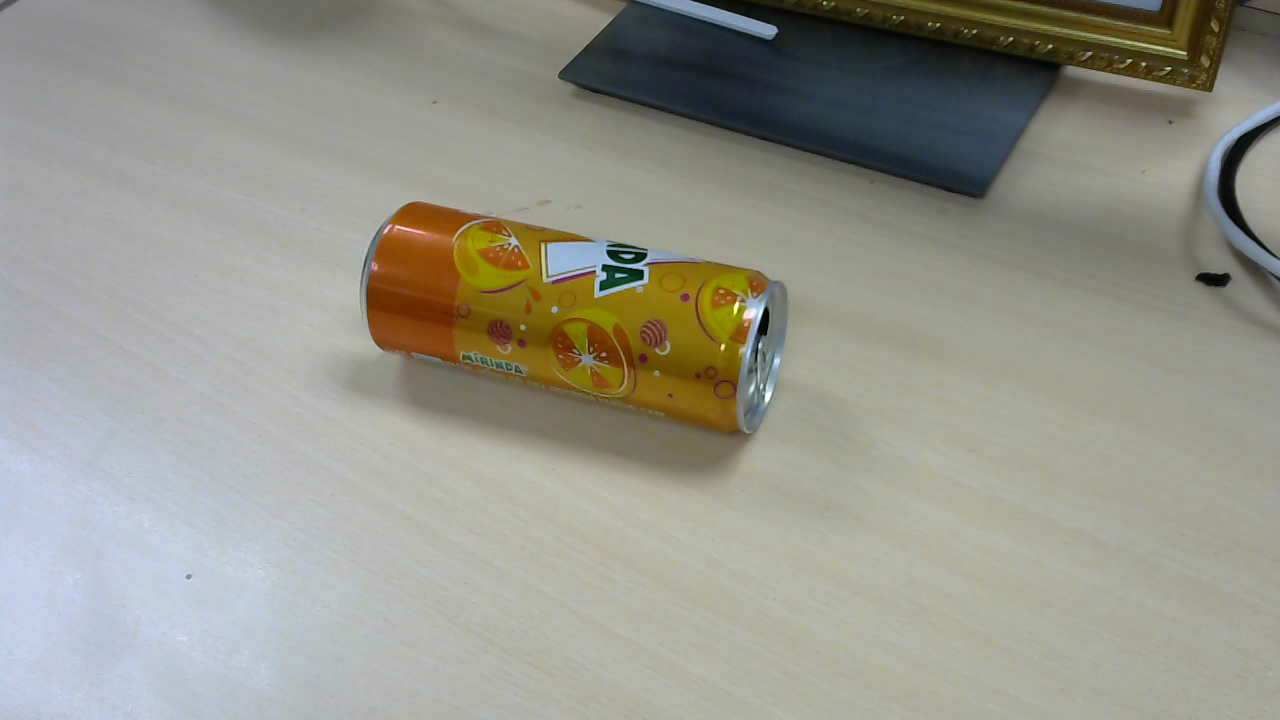Mirinda: (372, 195, 798, 443)
